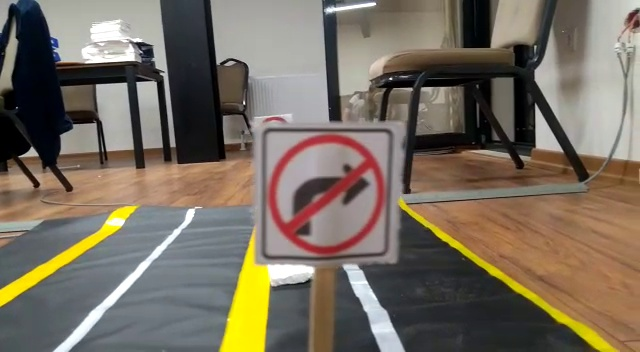saga_donulmez: (265, 127, 392, 257)
